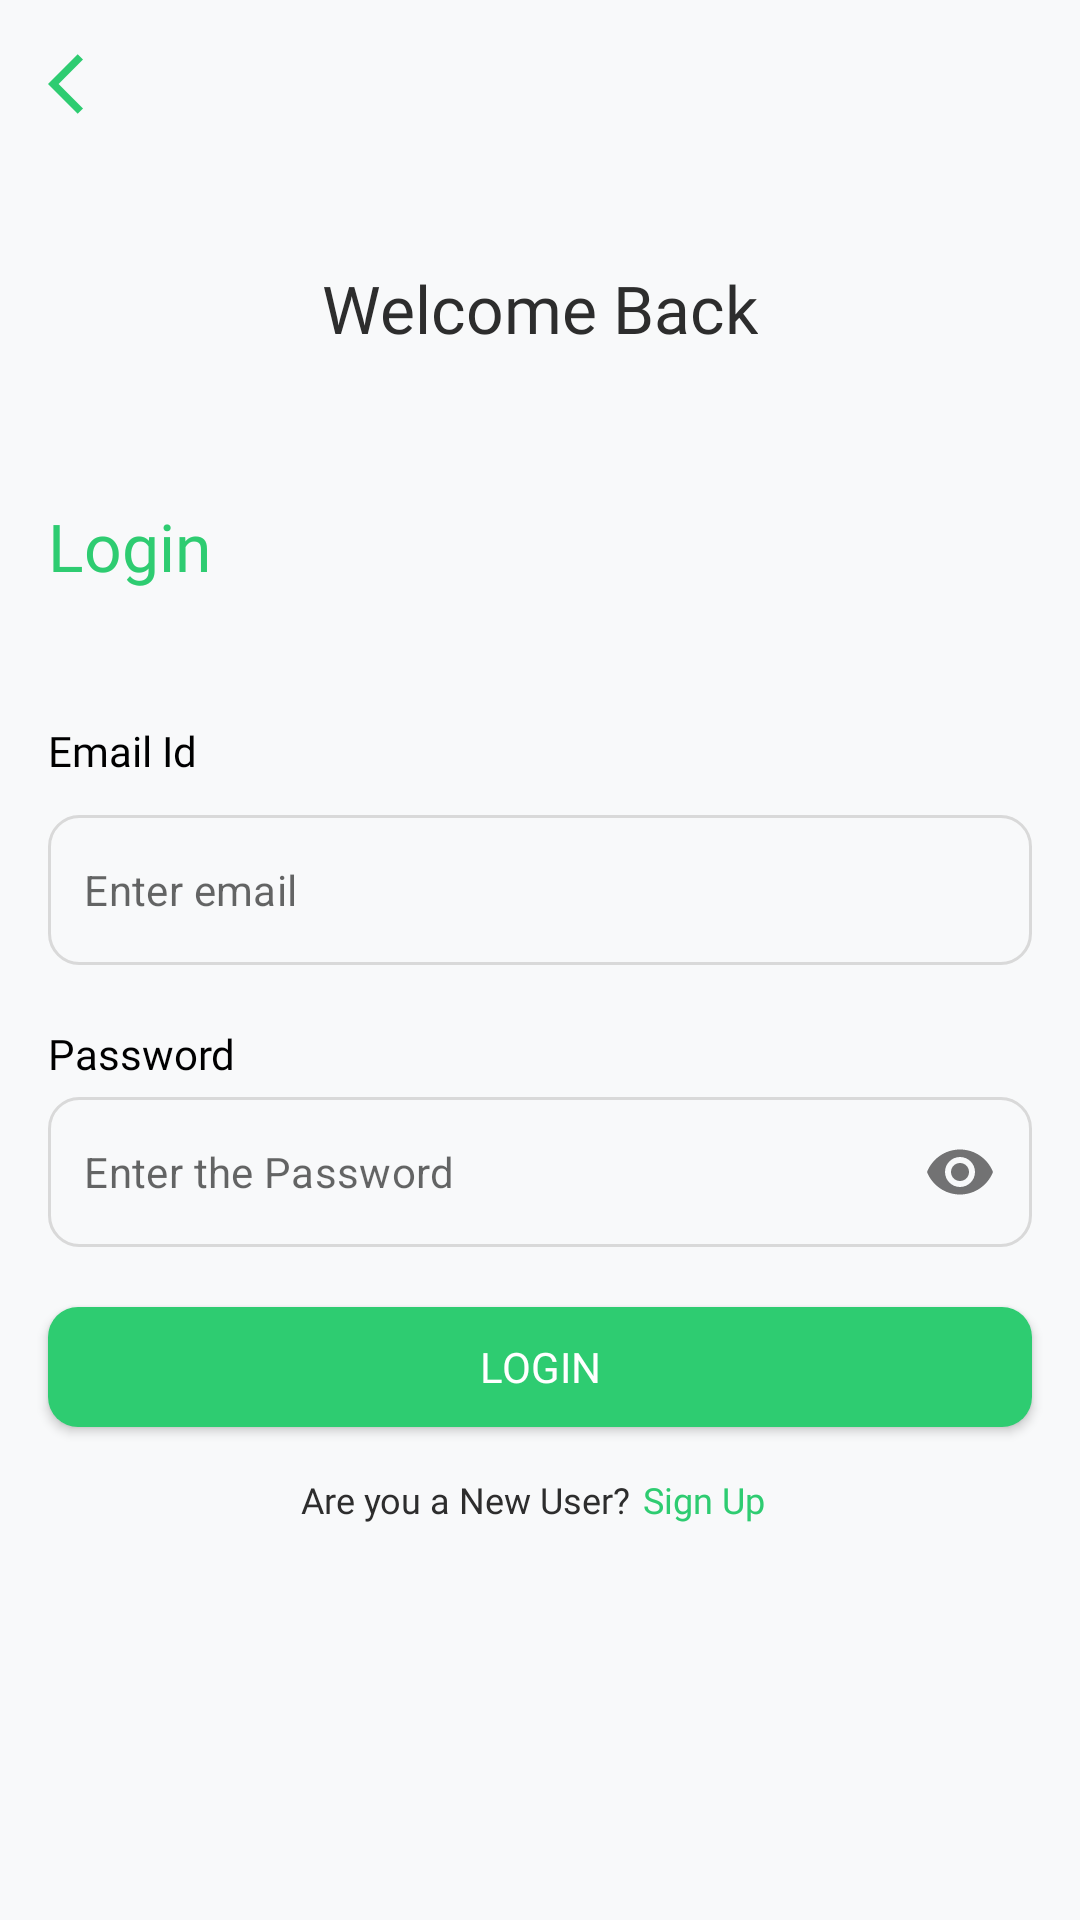

Where icons sit on this 1080 × 1920 app screen, as BBox(x1, y1, x2, y2):
back arrow: BBox(48, 54, 83, 114)
